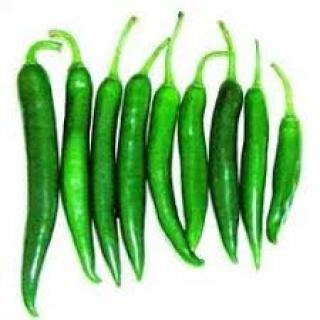Cabai Hijau: (145, 81, 209, 266), (16, 55, 63, 291), (206, 82, 244, 264), (90, 71, 122, 277), (266, 112, 304, 246)
